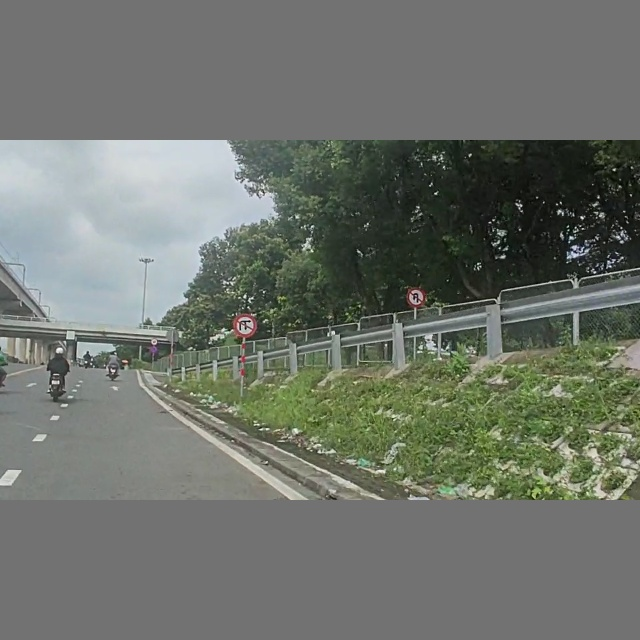P.124a*: (405, 288, 425, 308)
P.124d: (233, 314, 257, 338)
P.127*40: (151, 338, 158, 345)
P.130: (150, 347, 157, 353)
